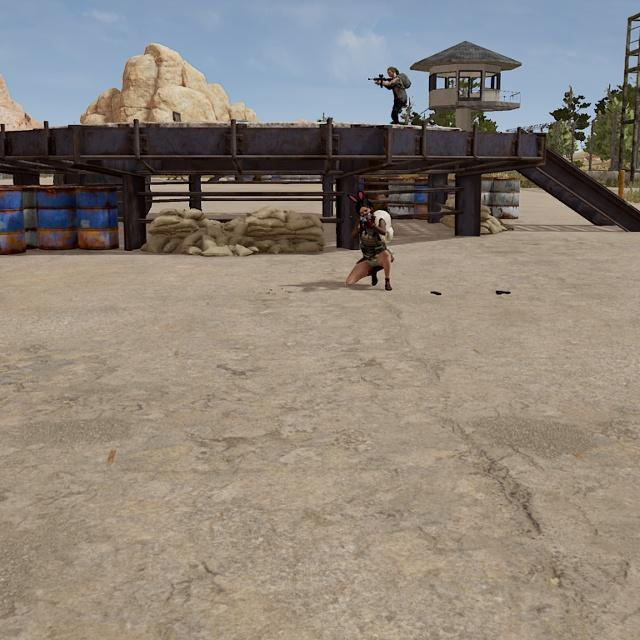head: (355, 197, 375, 221), (387, 65, 398, 79)
people: (344, 195, 395, 293), (380, 64, 409, 126)
